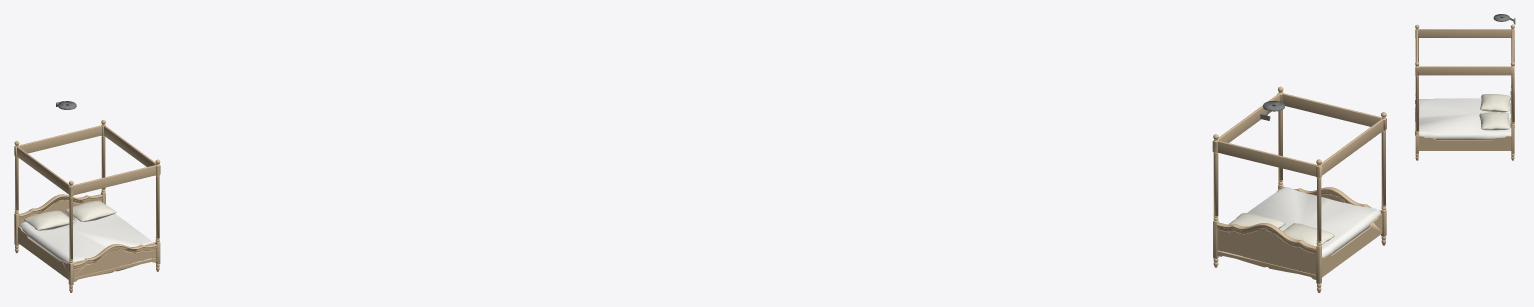
Rendered from bed.glb.
The picture shows the model from 3 angles, left to right: view 1: azimuth 30°, elevation 25°; view 2: azimuth 150°, elevation 25°; view 3: azimuth 270°, elevation 25°; orthographic projection. The views are drawn at different scales.
Visible parts, largest first — view 1: Mesh318__7bf8e317_0533_ae4f_a4ac_445ca3668fa5__0, Mesh319__074d10d5_88d0_1e49_9eec_44bf646ab955__0, Mesh320__c7730dde_0cad_c84f_8014_89e04aca9f71__0; view 2: Mesh318__7bf8e317_0533_ae4f_a4ac_445ca3668fa5__0, Mesh319__074d10d5_88d0_1e49_9eec_44bf646ab955__0, Mesh320__c7730dde_0cad_c84f_8014_89e04aca9f71__0; view 3: Mesh318__7bf8e317_0533_ae4f_a4ac_445ca3668fa5__0, Mesh319__074d10d5_88d0_1e49_9eec_44bf646ab955__0, Mesh320__c7730dde_0cad_c84f_8014_89e04aca9f71__0, Mesh413__80999e27_d277_8544_a745_b25822e715bd__0.
Boxes of the visible parts, left/top/right/bottom form: Mesh318__7bf8e317_0533_ae4f_a4ac_445ca3668fa5__0: left=14, top=120, right=160, bottom=292; Mesh319__074d10d5_88d0_1e49_9eec_44bf646ab955__0: left=19, top=213, right=154, bottom=263; Mesh320__c7730dde_0cad_c84f_8014_89e04aca9f71__0: left=23, top=200, right=116, bottom=230; Mesh318__7bf8e317_0533_ae4f_a4ac_445ca3668fa5__0: left=1212, top=86, right=1386, bottom=292; Mesh319__074d10d5_88d0_1e49_9eec_44bf646ab955__0: left=1247, top=187, right=1380, bottom=257; Mesh320__c7730dde_0cad_c84f_8014_89e04aca9f71__0: left=1228, top=213, right=1334, bottom=246; Mesh318__7bf8e317_0533_ae4f_a4ac_445ca3668fa5__0: left=1415, top=24, right=1514, bottom=160; Mesh319__074d10d5_88d0_1e49_9eec_44bf646ab955__0: left=1419, top=98, right=1511, bottom=139; Mesh320__c7730dde_0cad_c84f_8014_89e04aca9f71__0: left=1479, top=94, right=1510, bottom=130; Mesh413__80999e27_d277_8544_a745_b25822e715bd__0: left=1494, top=14, right=1509, bottom=20.
Size of the model in its own units: 417 by 96.72 by 73.59.
